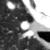node: (18, 20, 31, 30), (19, 31, 35, 39), (5, 1, 16, 11)
